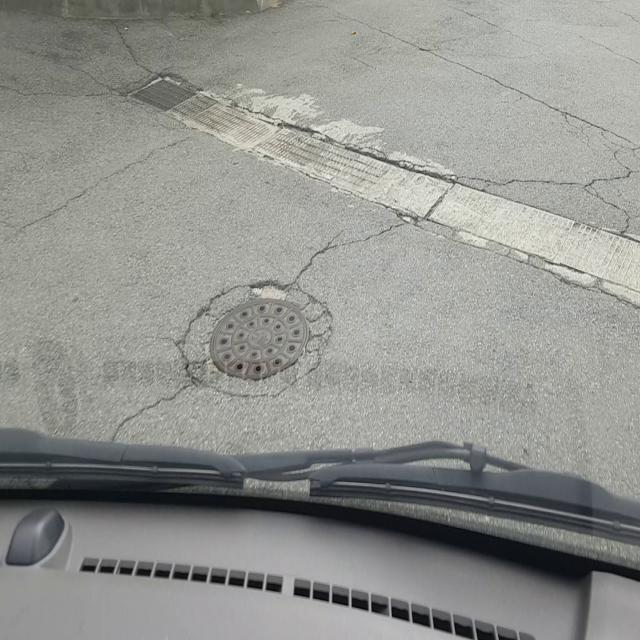Pothole: (173, 276, 337, 402)
